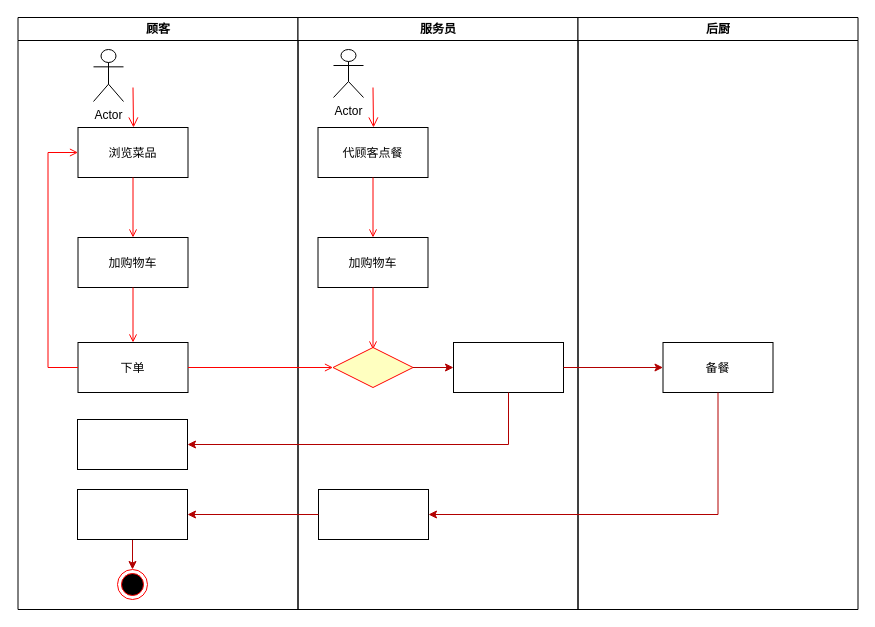
The diagram is 875 pixels wide and 627 high, and some of its shapes have lost their labels. The shapes that lost their labels are listed below. From the top down, each one's centre as x and y in pixels, then its label:
(372,367): 确认订单
(508,367): 结算
(132,444): 支付
(132,514): 用餐
(373,514): 配餐
